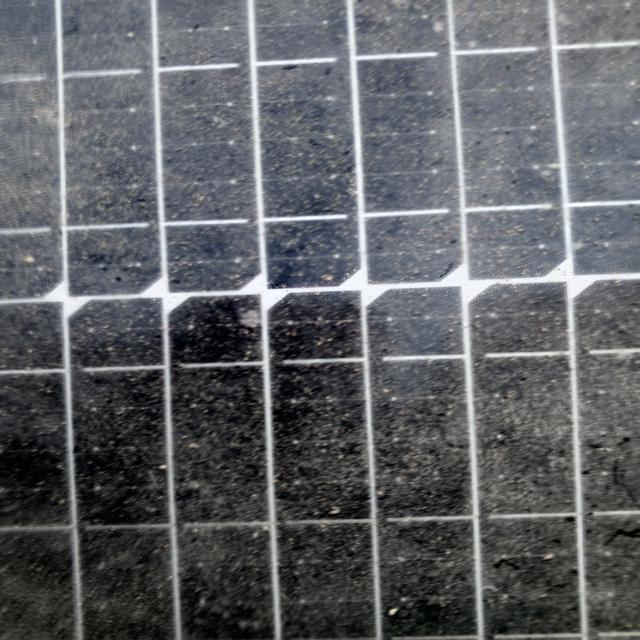Anomaly Solar Panel: (5, 5, 634, 634)
Surface Contaminant: (31, 29, 622, 629)
